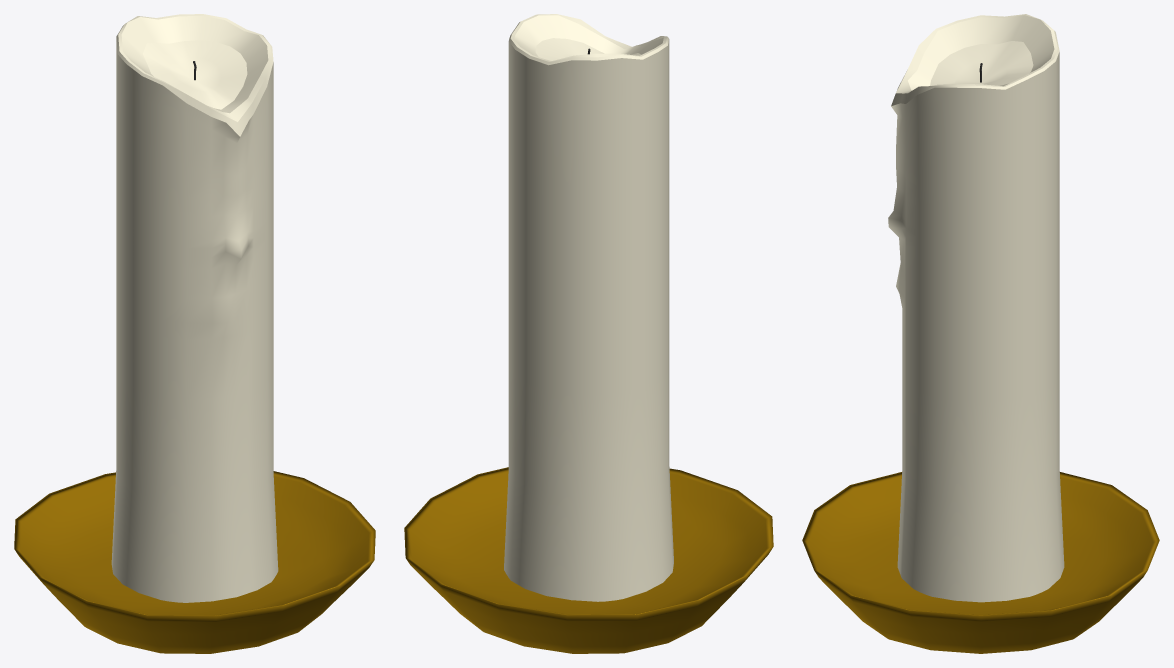
The model's file is candle.fbx.
3 renders of one model, left to right at view 1: azimuth 30°, elevation 25°; view 2: azimuth 150°, elevation 25°; view 3: azimuth 270°, elevation 25°, orthographic. The views are drawn at different scales.
Parts seen in each view (by area): view 1: candle, dish; view 2: candle, dish; view 3: candle, dish.
Boxes of the visible parts, left/top/right/bottom form: candle: left=111, top=14, right=278, bottom=602; dish: left=14, top=471, right=375, bottom=653; candle: left=504, top=14, right=673, bottom=601; dish: left=404, top=467, right=773, bottom=653; candle: left=888, top=14, right=1064, bottom=602; dish: left=802, top=472, right=1159, bottom=653.
Bounding box in the file's own units: 6.71 × 11.77 × 6.71.
